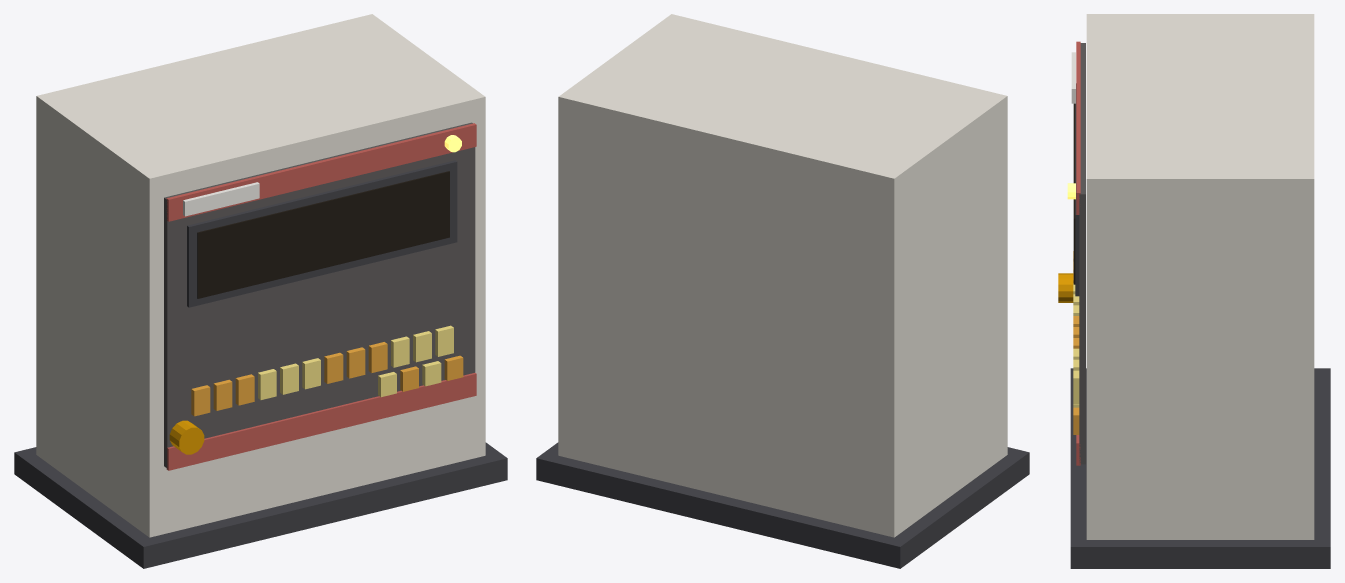
Rendered from pdp8.glb.
The picture shows the model from 3 angles, left to right: view 1: azimuth 30°, elevation 25°; view 2: azimuth 150°, elevation 25°; view 3: azimuth 270°, elevation 25°; orthographic projection.
Visible parts, largest first — view 1: cab, face, screen, base, trim_b, trim_t, screen_bezel, plate, knob_reset; view 2: cab, base; view 3: cab, base, face, trim_t, screen_bezel, screen, knob_reset.
Boxes of the visible parts, left/top/right/bottom form: cab: left=36, top=14, right=485, bottom=537; face: left=164, top=122, right=475, bottom=468; screen: left=197, top=171, right=449, bottom=298; base: left=14, top=442, right=507, bottom=568; trim_b: left=166, top=373, right=476, bottom=470; trim_t: left=166, top=123, right=476, bottom=221; screen_bezel: left=187, top=160, right=457, bottom=307; plate: left=183, top=182, right=259, bottom=216; knob_reset: left=169, top=420, right=204, bottom=454; cab: left=558, top=14, right=1007, bottom=537; base: left=536, top=442, right=1029, bottom=568; cab: left=1086, top=14, right=1314, bottom=539; base: left=1070, top=368, right=1330, bottom=568; face: left=1079, top=43, right=1085, bottom=464; trim_t: left=1076, top=41, right=1080, bottom=214; screen_bezel: left=1075, top=83, right=1079, bottom=296; screen: left=1073, top=103, right=1075, bottom=284; knob_reset: left=1058, top=273, right=1073, bottom=302.
Size of the model in its own units: 1.56 by 1.56 by 1.
